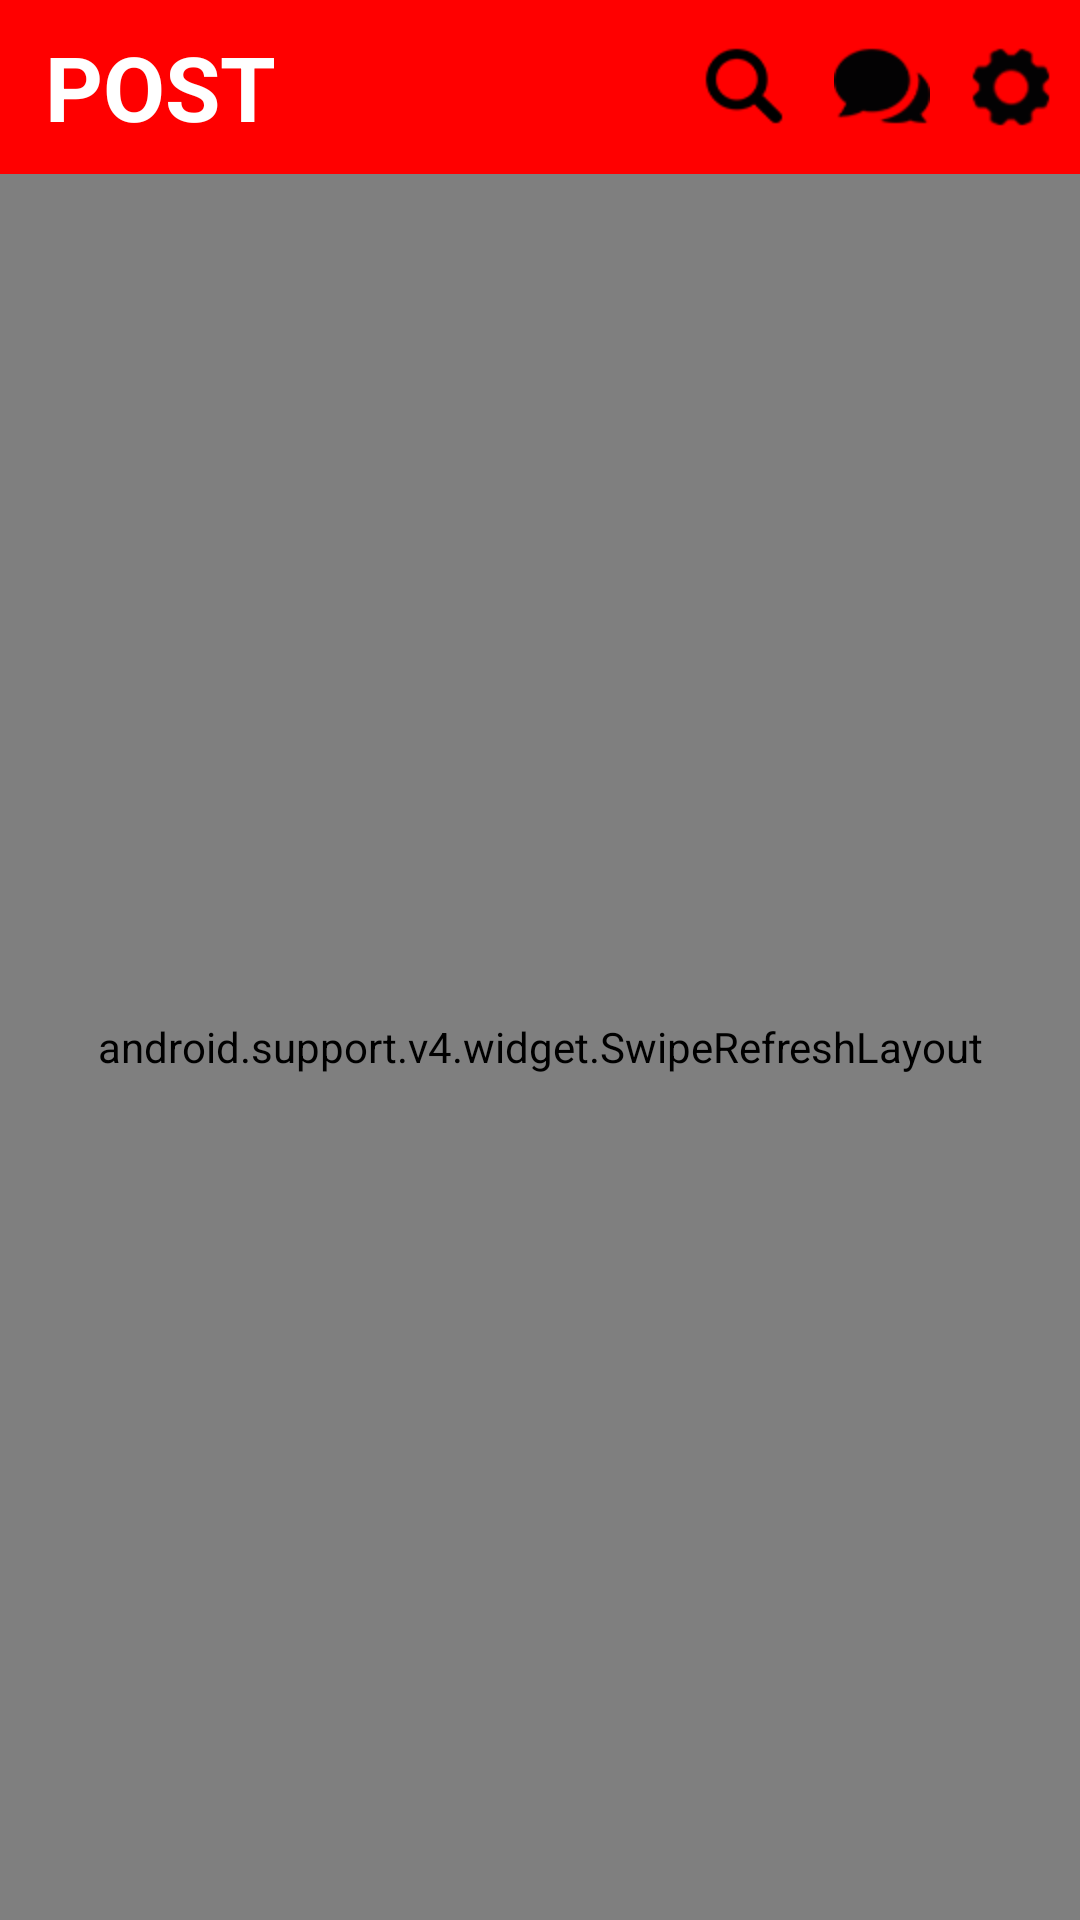

Icons on this 1080x1920 Android screen, each with the point to tap as (x,y):
message: (882,86)
setting: (1011,87)
